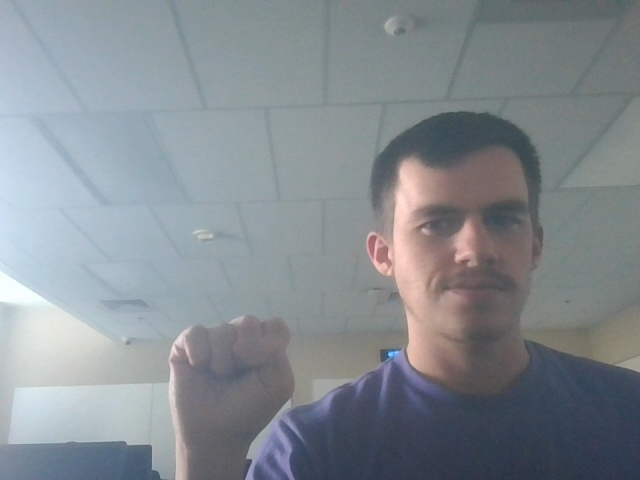yes: (147, 309, 318, 444)
